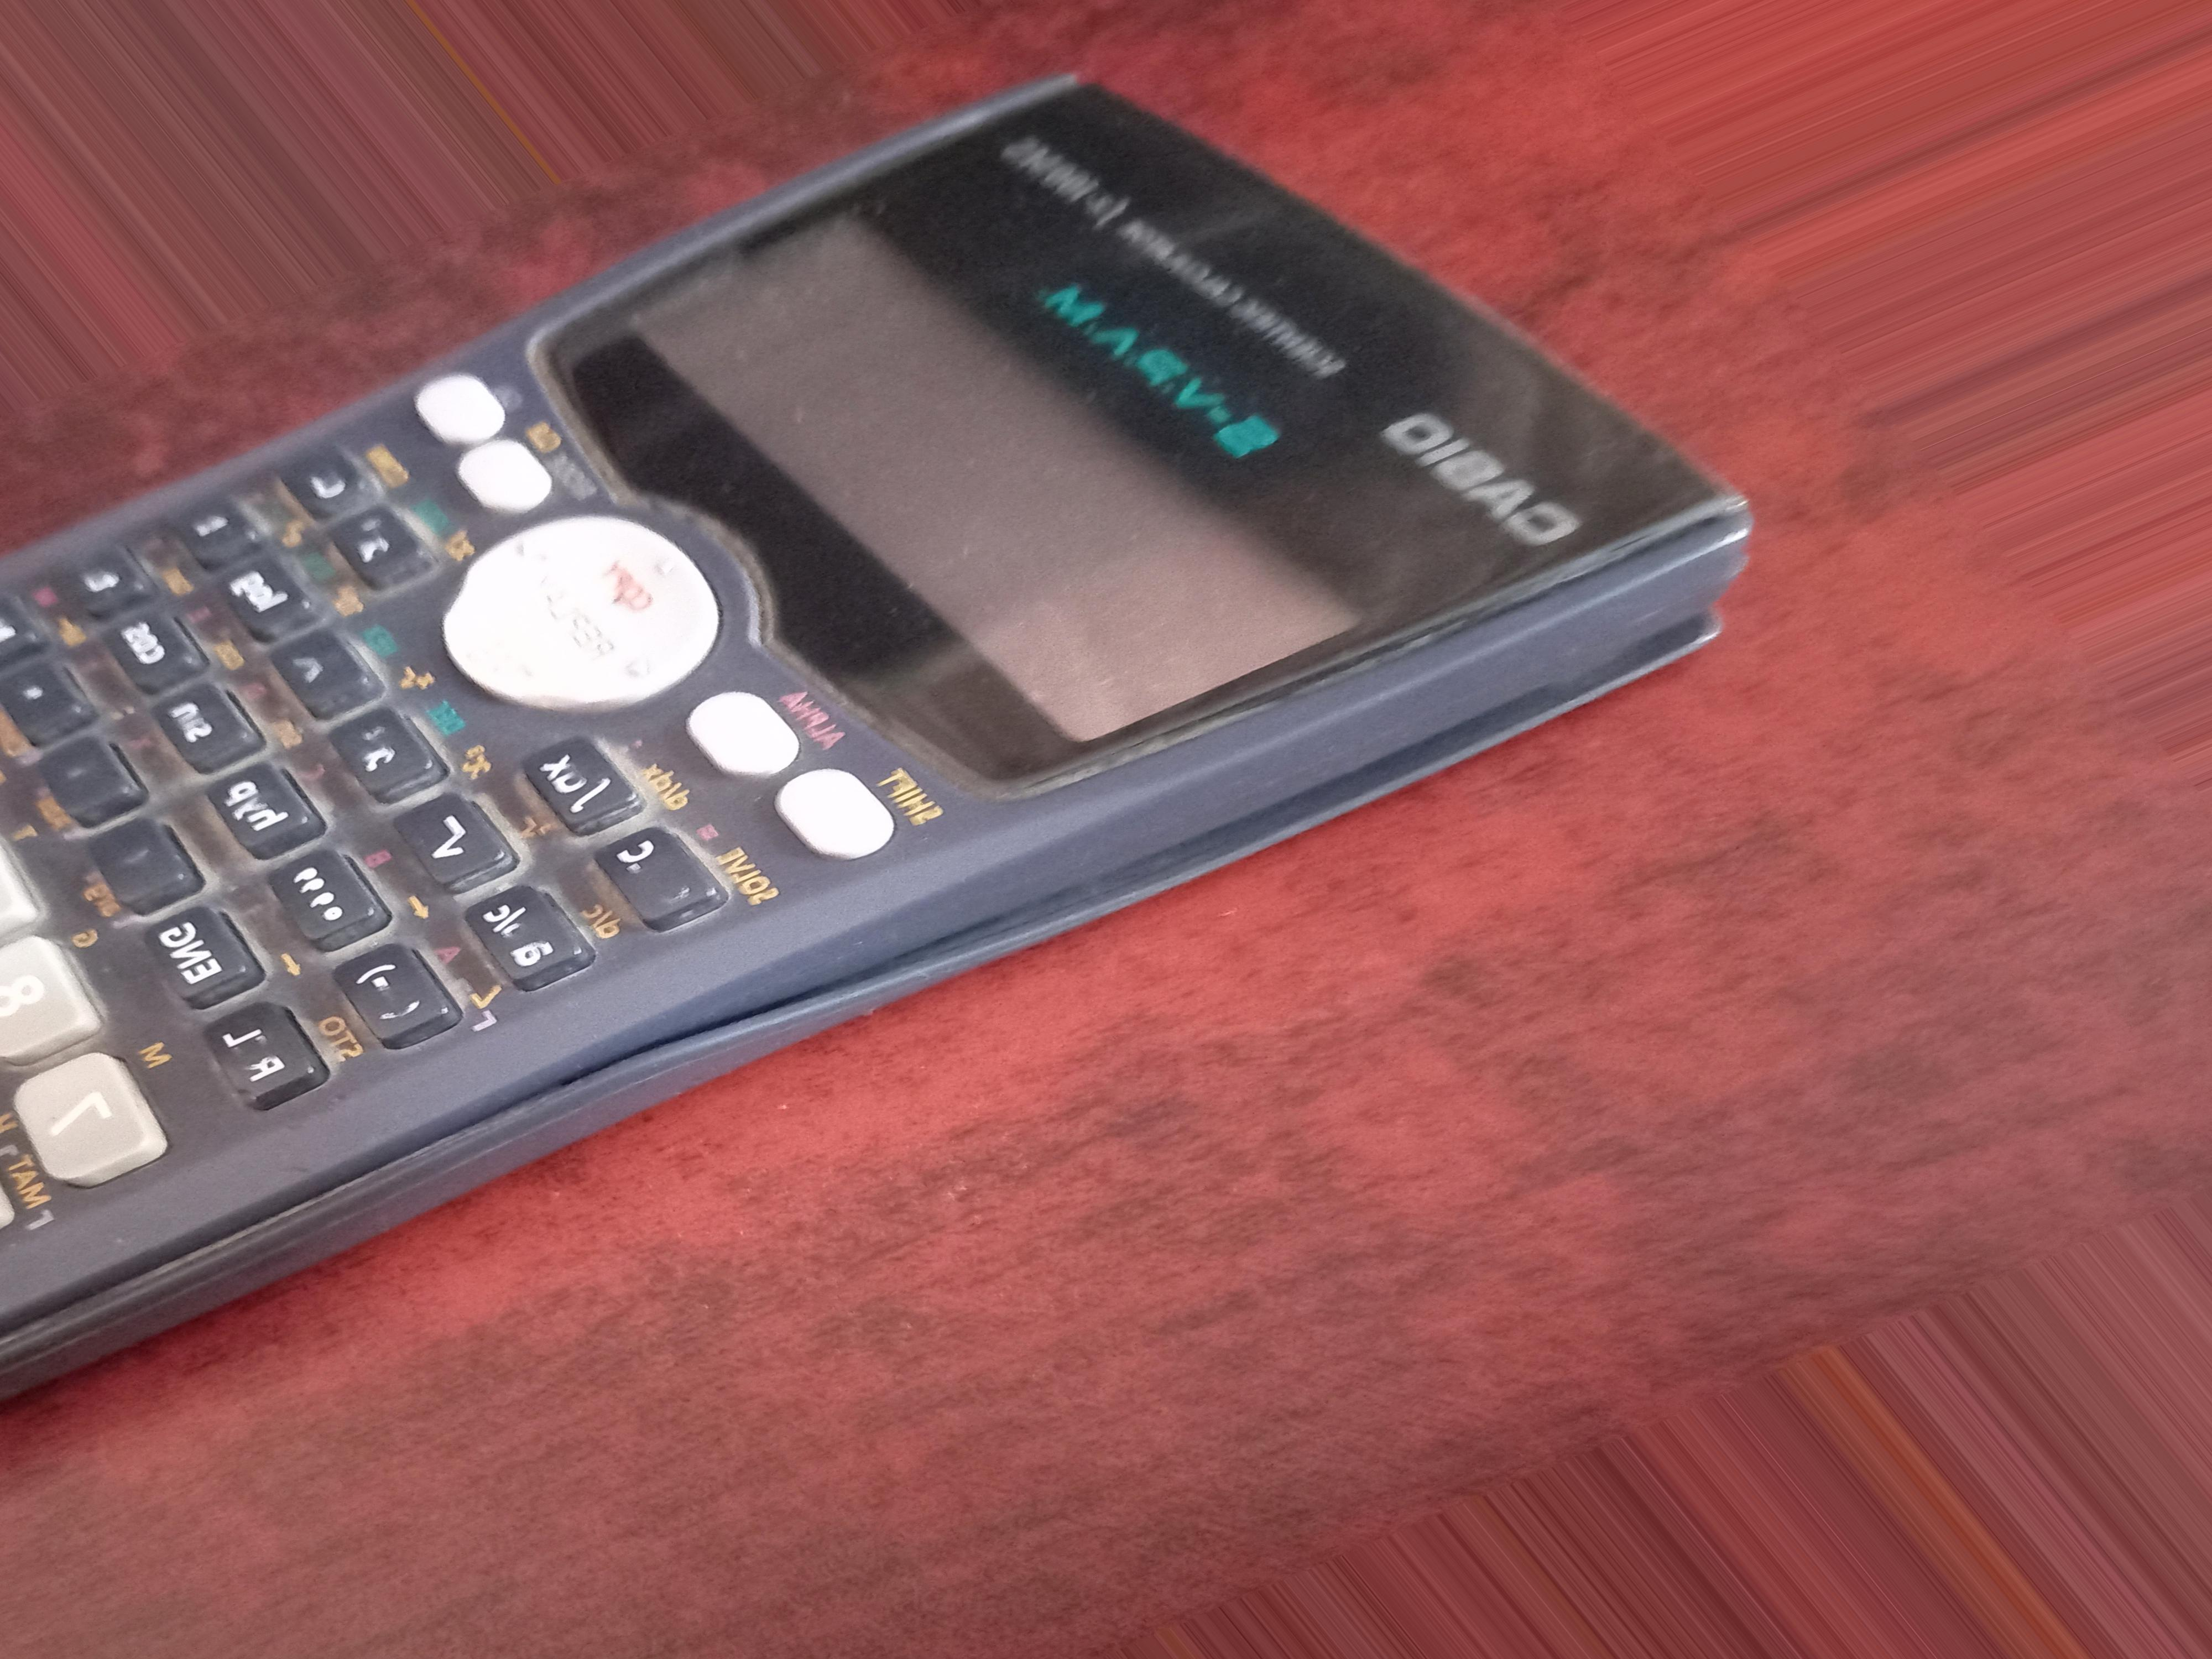calculator: (56, 77, 1832, 1342)
